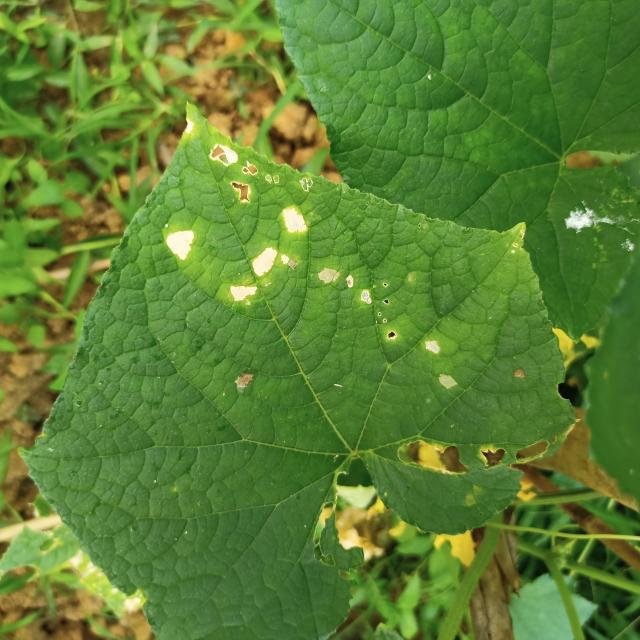disease_cucumber: (169, 122, 490, 396)
